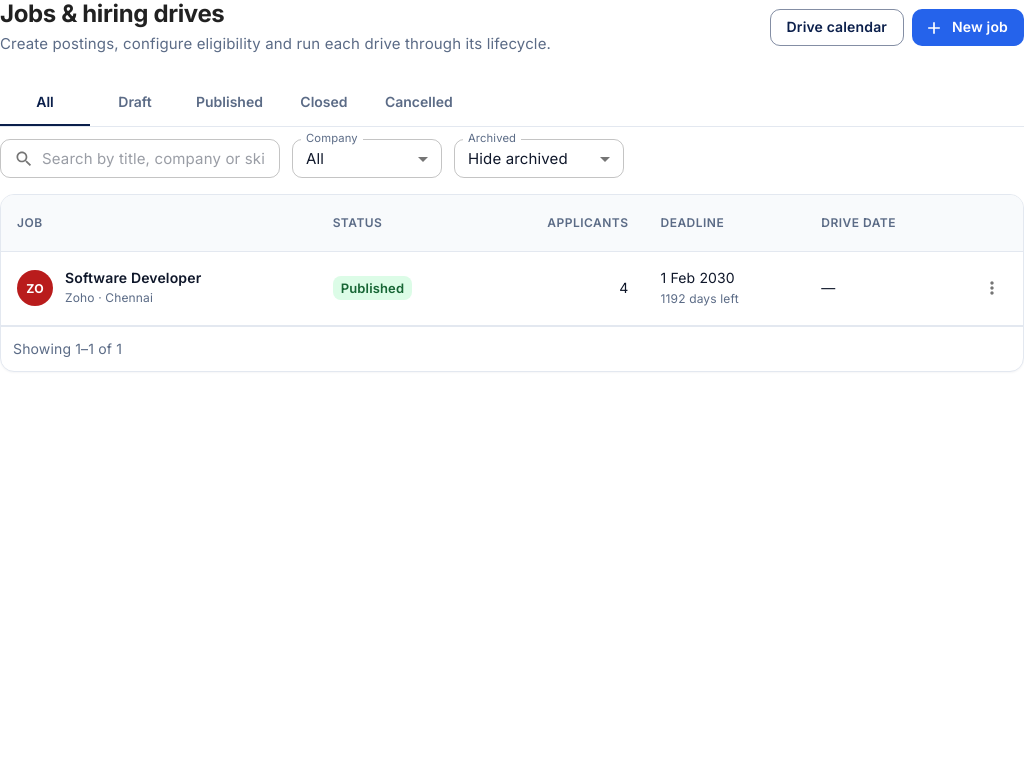
Test: lifecycle actions from the row menu › a 403 from the server (permission revoked after the page loaded) is surfaced
This screenshot has width=1024, height=768.
Expected: the link "Software Developer" is shown, x1=65 y1=269 x2=201 y2=286
Click the button named "Actions for Software Developer".
click(992, 288)  # box x1=977 y1=273 x2=1007 y2=303
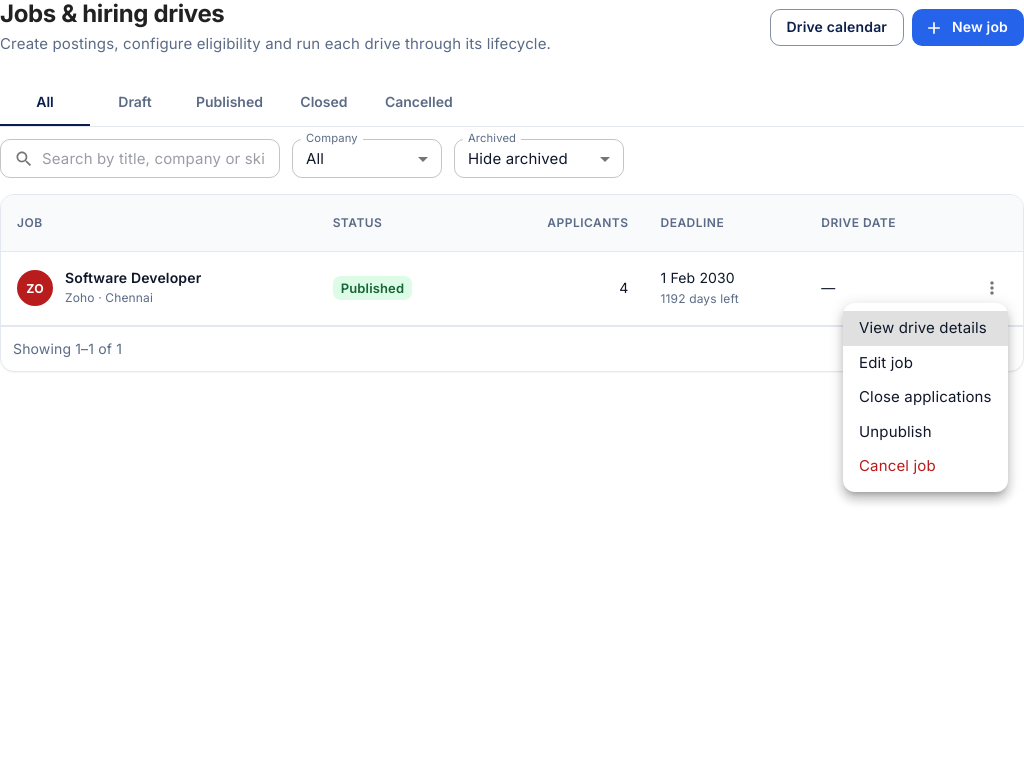
Click the menu item "Close applications".
click(925, 396)  # box x1=859 y1=387 x2=992 y2=406
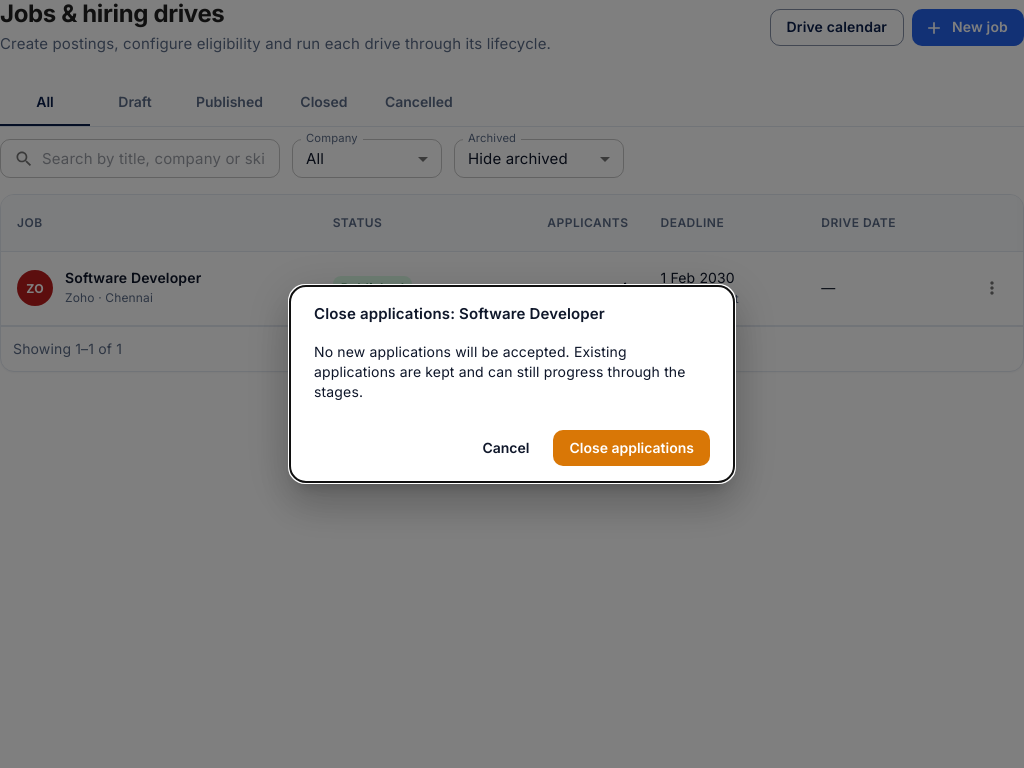
Click the button "Close applications".
click(632, 448)  # box x1=553 y1=430 x2=710 y2=466
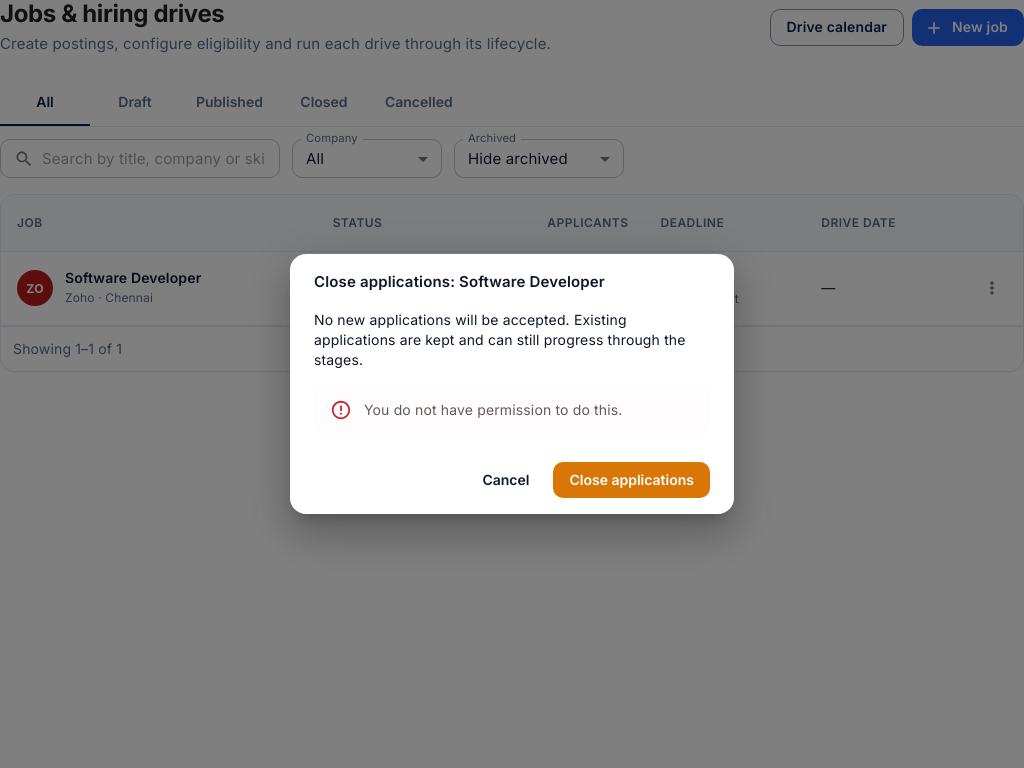
Now the text "You do not have permission to do this." is shown, box x1=364 y1=401 x2=622 y2=418
